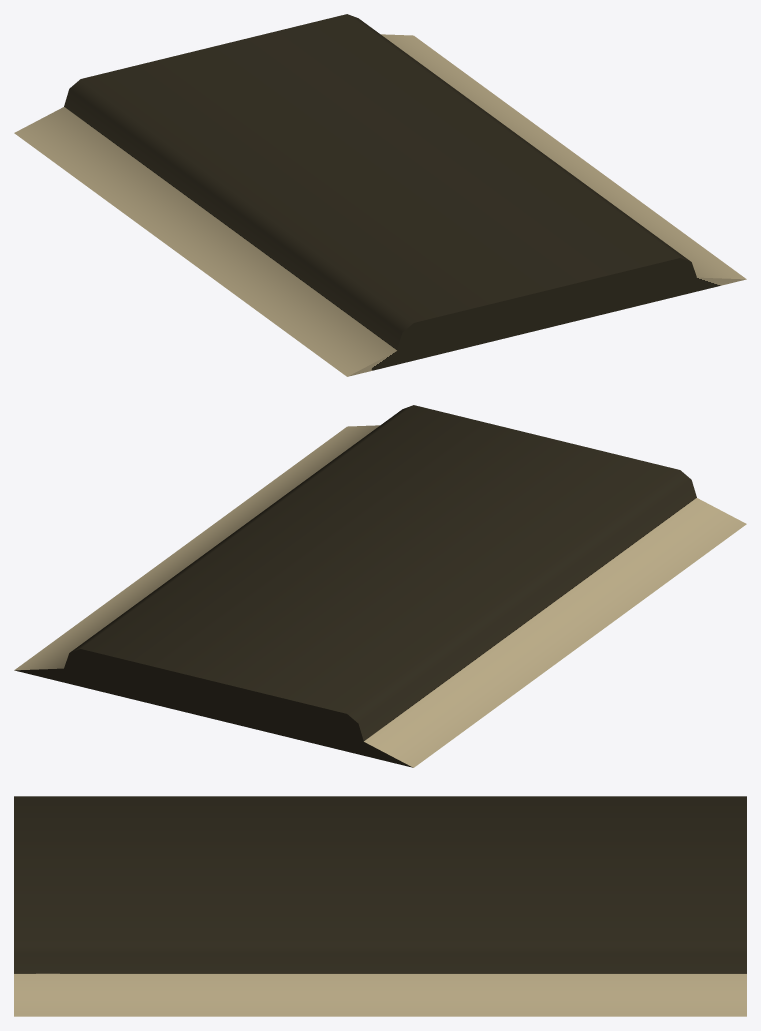
Rendered from Road_HalfRoad.fbx.
3 views of the same model, one above another, from view 1: azimuth 30°, elevation 25°; view 2: azimuth 150°, elevation 25°; view 3: azimuth 270°, elevation 25° (orthographic). The views are drawn at different scales.
Parts seen in each view (by area): view 1: Road_HalfRoad; view 2: Road_HalfRoad; view 3: Road_HalfRoad.
Boxes of the visible parts, box(x1,y1,x2,y2) form: Road_HalfRoad: box(14, 14, 746, 376); Road_HalfRoad: box(14, 405, 746, 767); Road_HalfRoad: box(14, 796, 746, 1016).
Size of the model in its own units: 0.3 by 0.0271 by 0.433.
